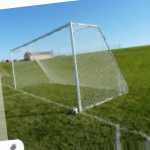goals: (9, 20, 128, 111)
